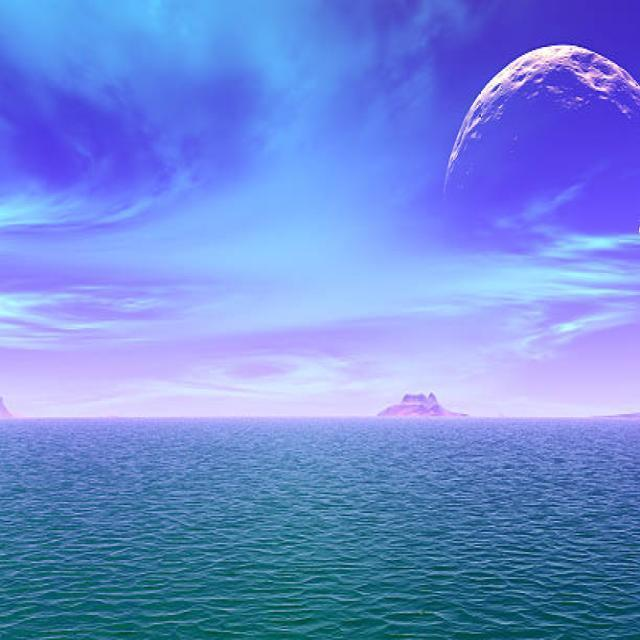moon: (408, 23, 640, 230)
